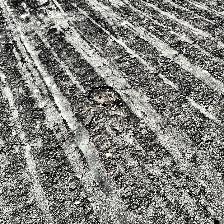pothole: (86, 85, 122, 107)
